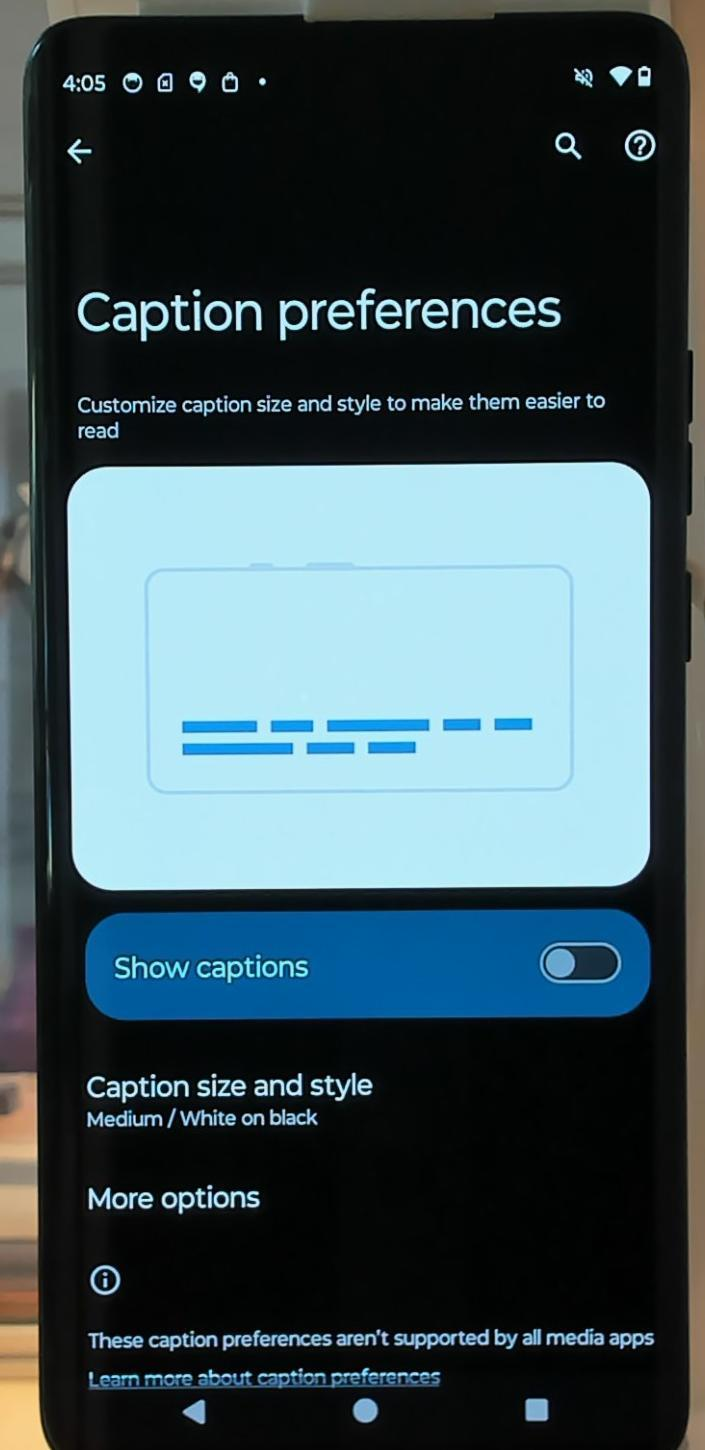Checkbox: (105, 930, 626, 997)
